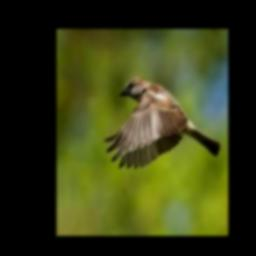Sparrow: (104, 77, 220, 168)
